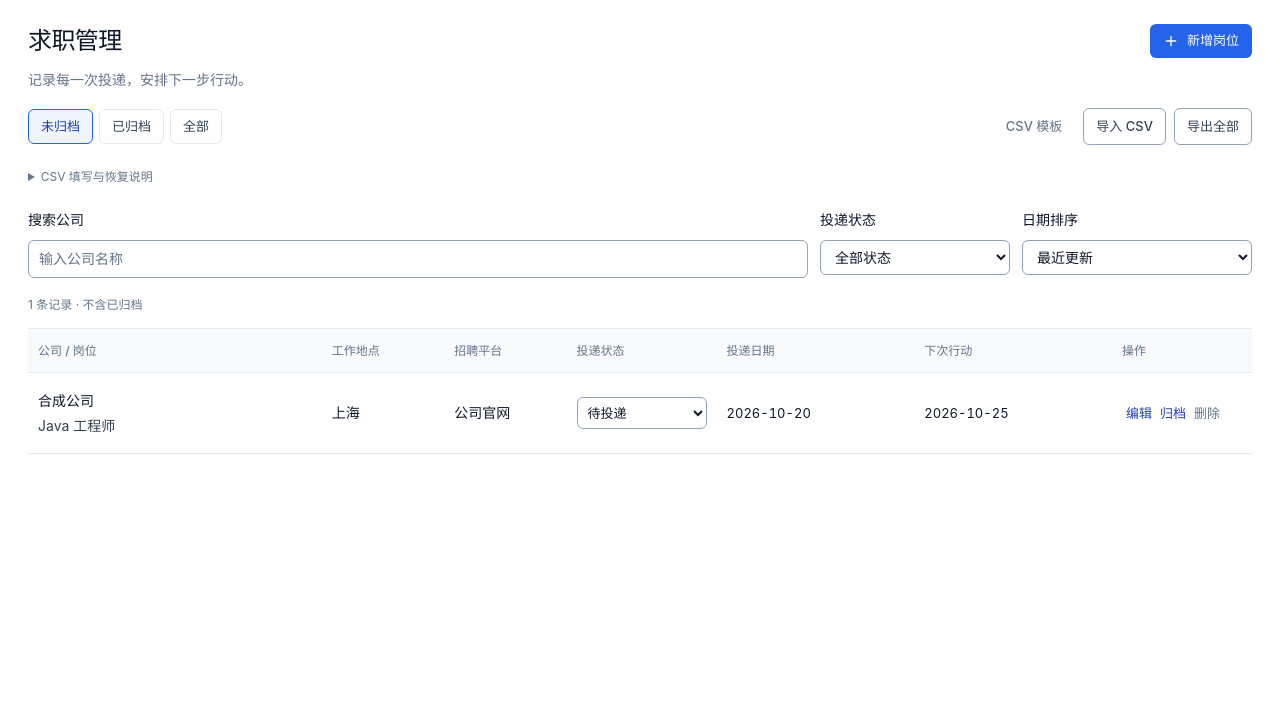
Test case: 删除必须确认，取消不发送，确认只删除目标记录
Click the button "删除".
click(1207, 413)  # box [1190,396,1224,430]
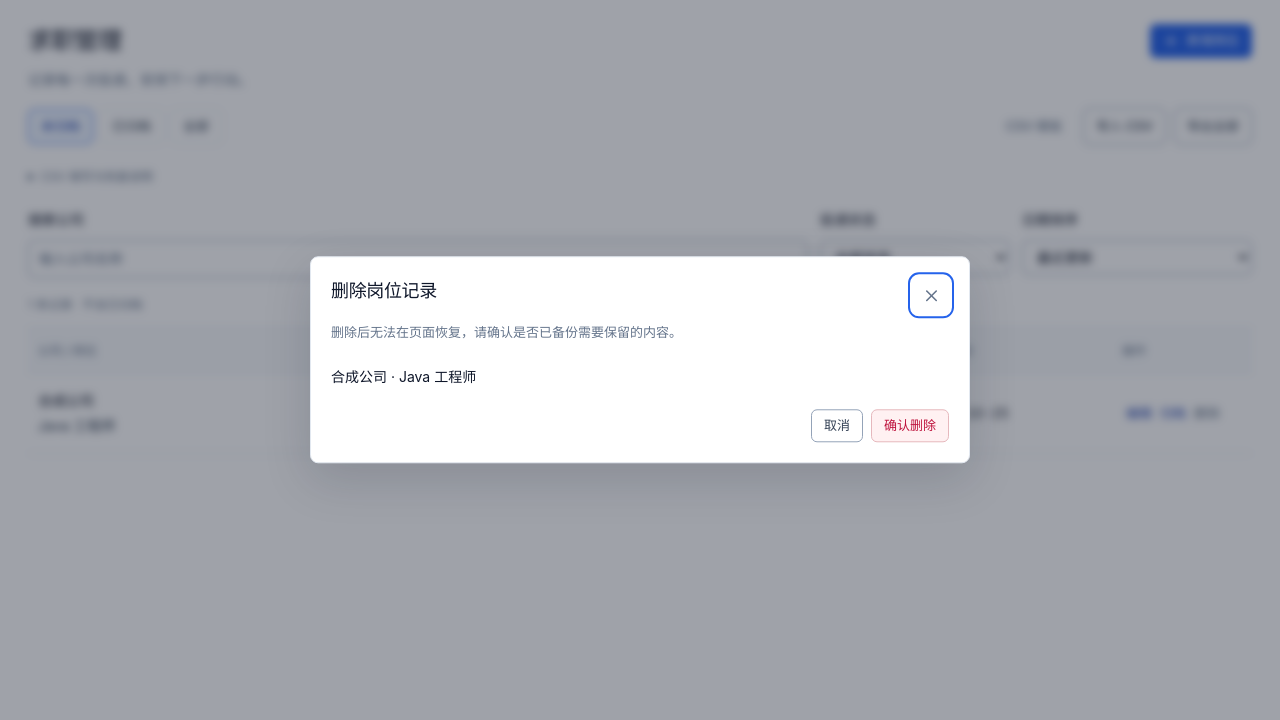
Now the dialog shows "合成公司", box [331,368,476,385]
Now the button "取消" is shown
Click the button "取消".
click(837, 426)  # box [811,409,863,443]
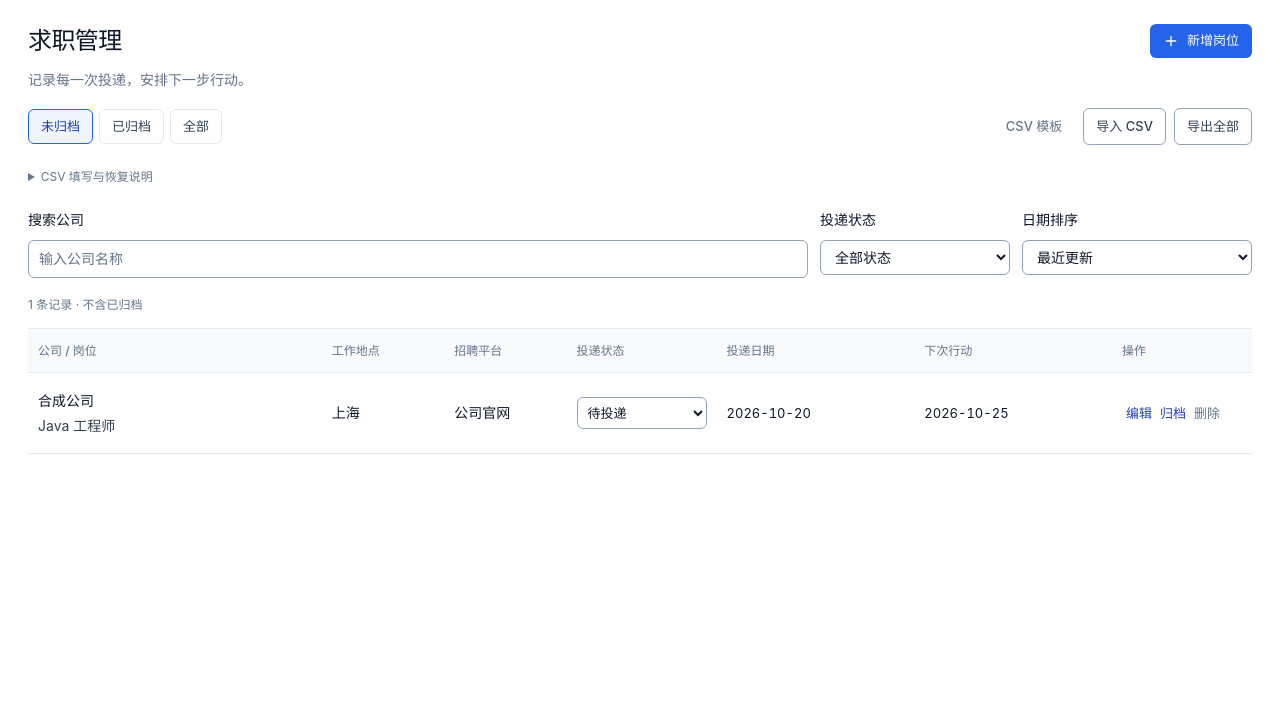
Click the button "删除".
click(1207, 413)  # box [1190,396,1224,430]
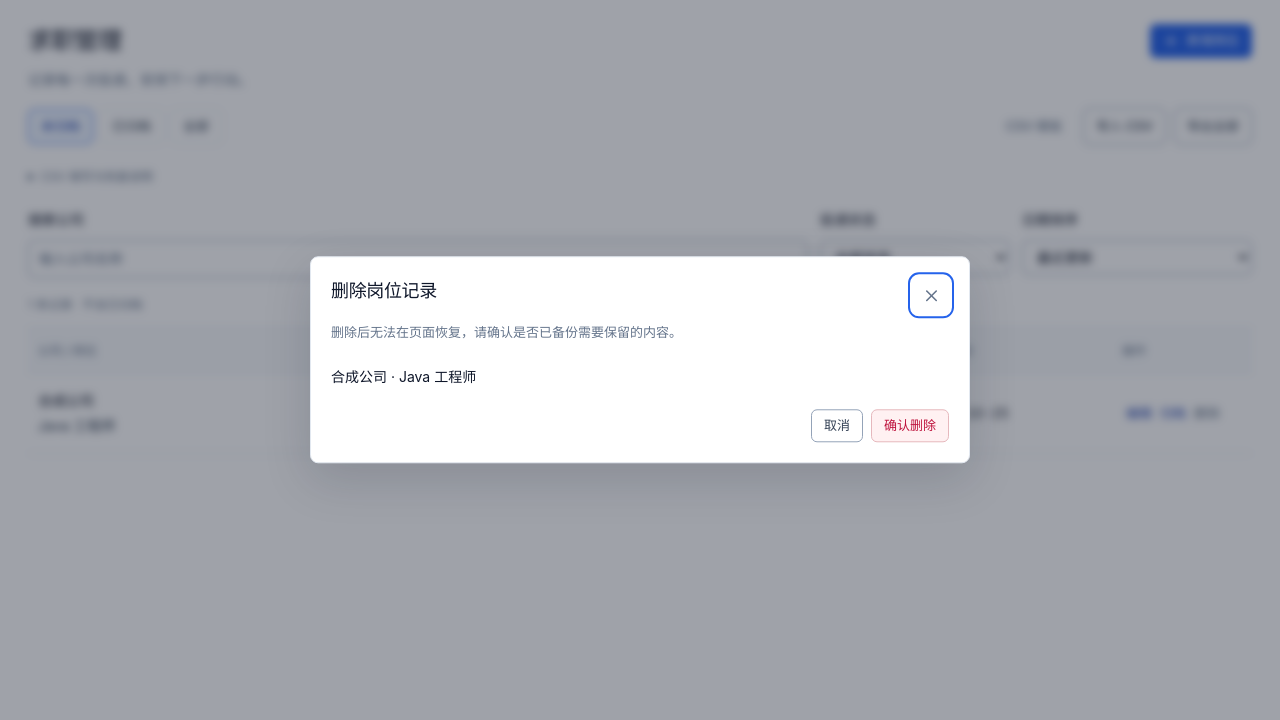
Now the button "确认删除" is shown
Click the button "确认删除".
click(910, 426)  # box [871,409,949,443]
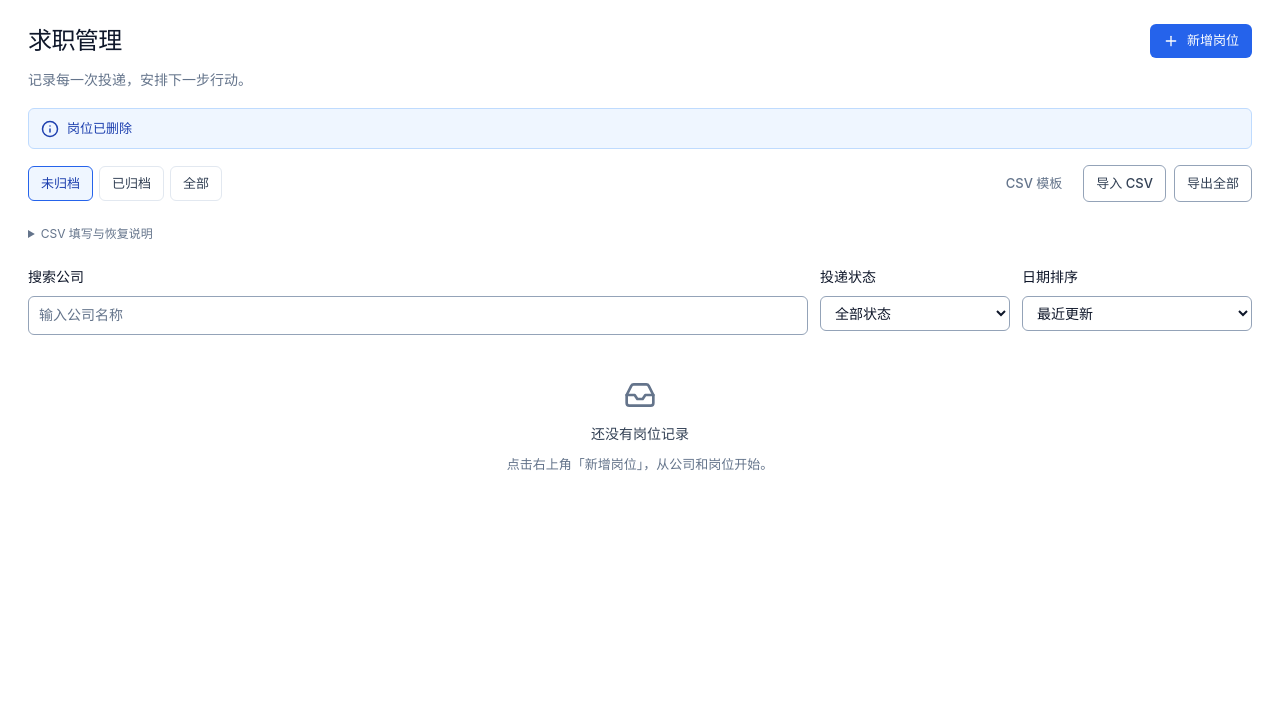
Now the text "还没有岗位记录" is shown, box [591,425,689,442]
